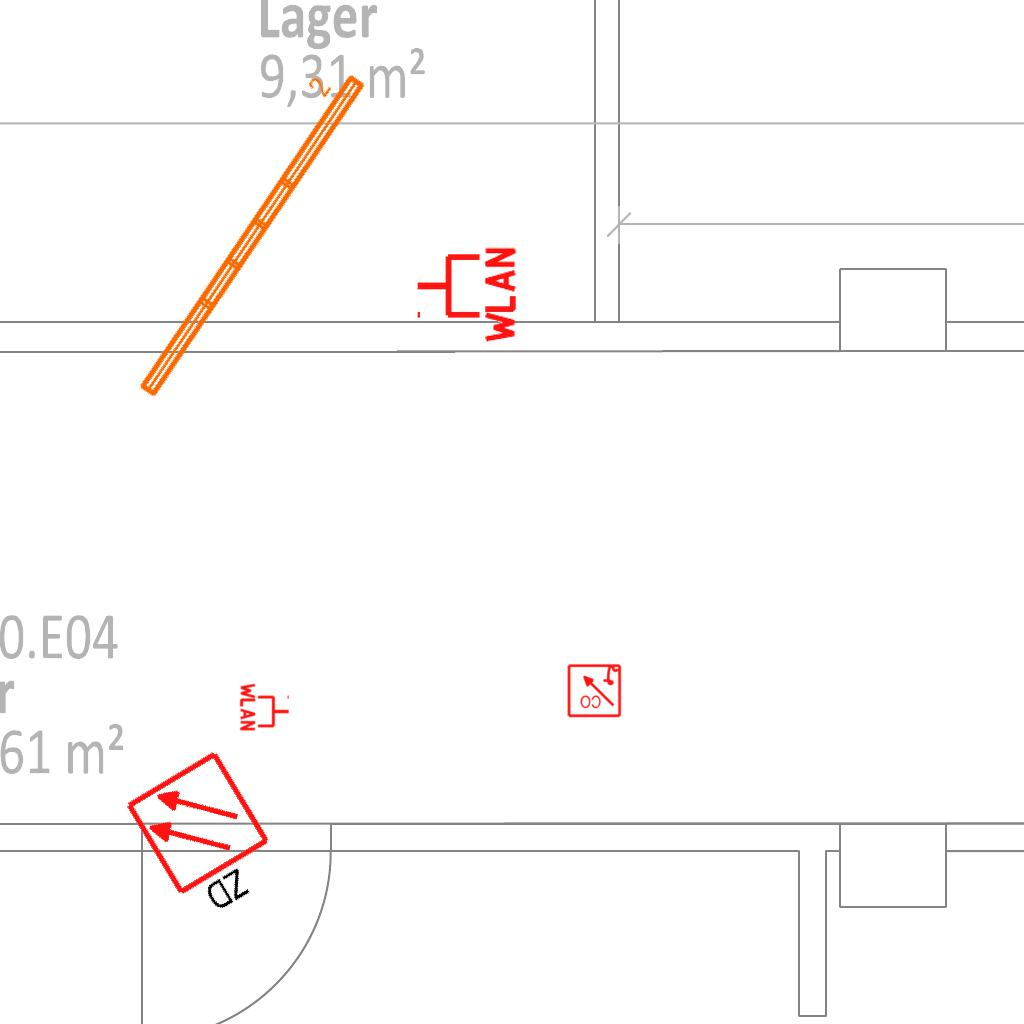Ambulanz_Pendelleuchte_LED: (110, 52, 373, 406)
ROA_Rauchmelder_optisch_mit_Signalgeber_(Sockelsirene): (566, 662, 622, 718)
WLAN: (413, 243, 518, 347), (239, 681, 291, 733)
ZD_Melder_in_Zwischendecke_mit_Revisionsoeffnung_mind_40_x_40_cm: (121, 745, 297, 932)
